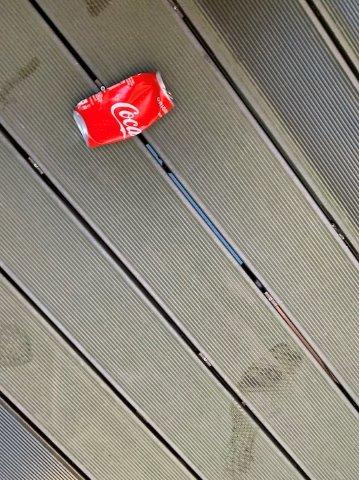kaleng: (73, 73, 173, 147)
